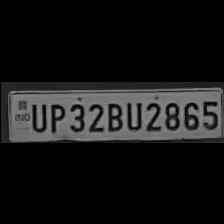2: (84, 100, 104, 132), (142, 98, 160, 132)
3: (65, 99, 84, 131)
5: (198, 97, 220, 129)
6: (180, 97, 198, 129)
8: (162, 98, 180, 130)
B: (104, 98, 122, 132)
P: (46, 100, 64, 132)
U: (122, 97, 142, 130), (27, 99, 46, 131)
